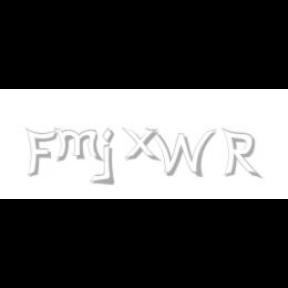F: (25, 128, 57, 178)
R: (221, 128, 259, 180)
W: (145, 128, 217, 178)
j: (100, 128, 128, 186)
m: (53, 128, 105, 162)
x: (122, 128, 164, 162)
